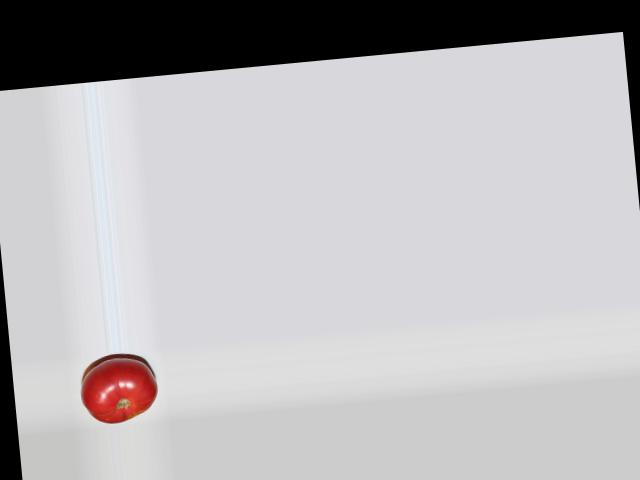tomato: (77, 355, 160, 426)
